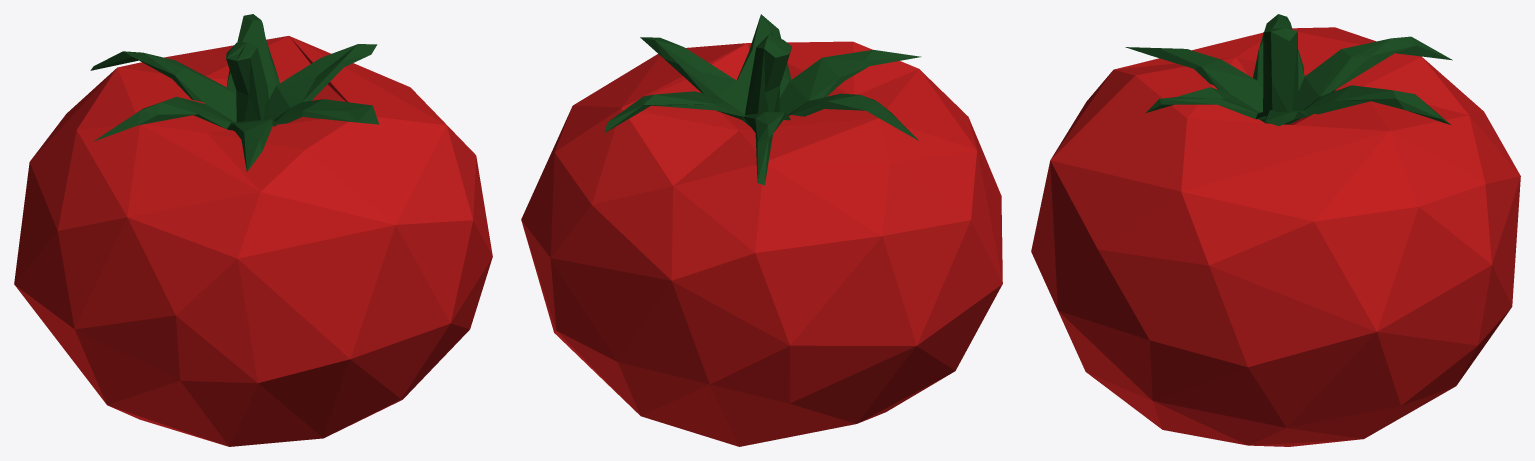
File: Tomato.FBX
3 views of the same model, side by side, from view 1: azimuth 30°, elevation 25°; view 2: azimuth 150°, elevation 25°; view 3: azimuth 270°, elevation 25° (orthographic). The views are drawn at different scales.
Visible parts, largest first — view 1: Tomato, Tail; view 2: Tomato, Tail; view 3: Tomato, Tail.
Boxes of the visible parts, <box> form: Tomato: <box>14,36,492,446</box>; Tail: <box>90,14,379,171</box>; Tomato: <box>521,41,1002,446</box>; Tail: <box>604,14,921,185</box>; Tomato: <box>1031,27,1520,446</box>; Tail: <box>1125,14,1452,126</box>.
Size of the model in its own units: 87.68 by 78.3 by 87.62.
